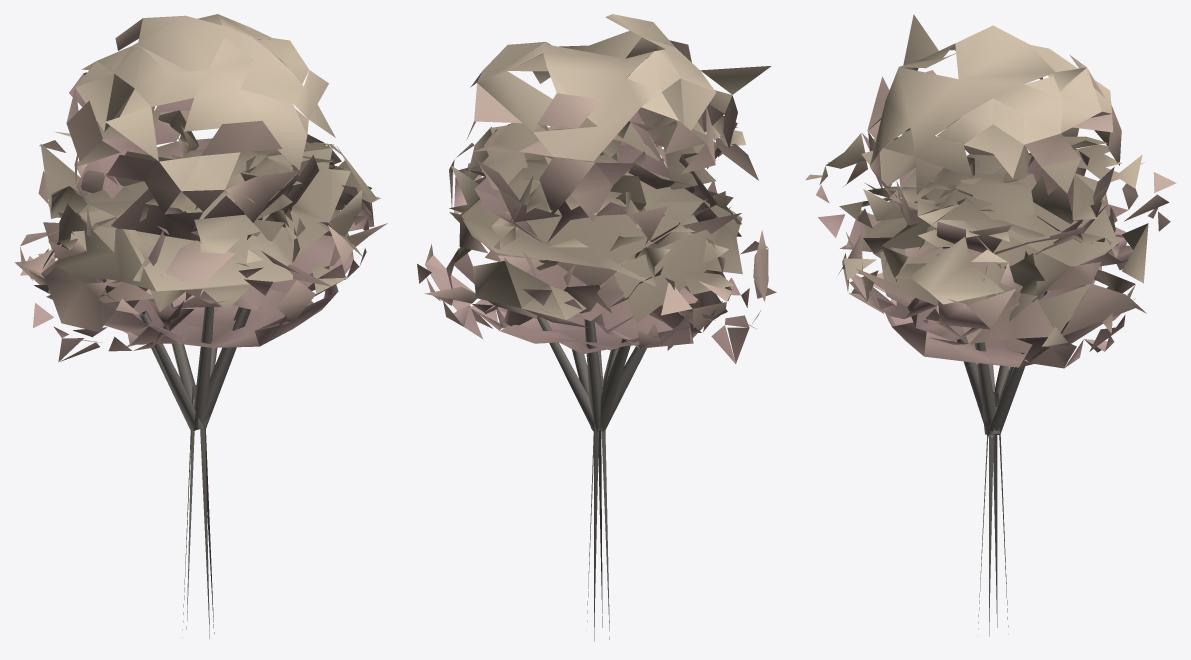
The model's file is maple.lod.glb.
The picture shows the model from 3 angles, left to right: view 1: azimuth 30°, elevation 25°; view 2: azimuth 150°, elevation 25°; view 3: azimuth 270°, elevation 25°; orthographic projection. The views are drawn at different scales.
Parts seen in each view (by area): view 1: maple.001; view 2: maple.001; view 3: maple.001.
Boxes of the visible parts, x1,y1,x2,y2 form: maple.001: [14, 14, 387, 638]; maple.001: [417, 14, 776, 641]; maple.001: [805, 14, 1176, 636].
Bounding box in the file's own units: 3.48 × 6.29 × 3.57.
